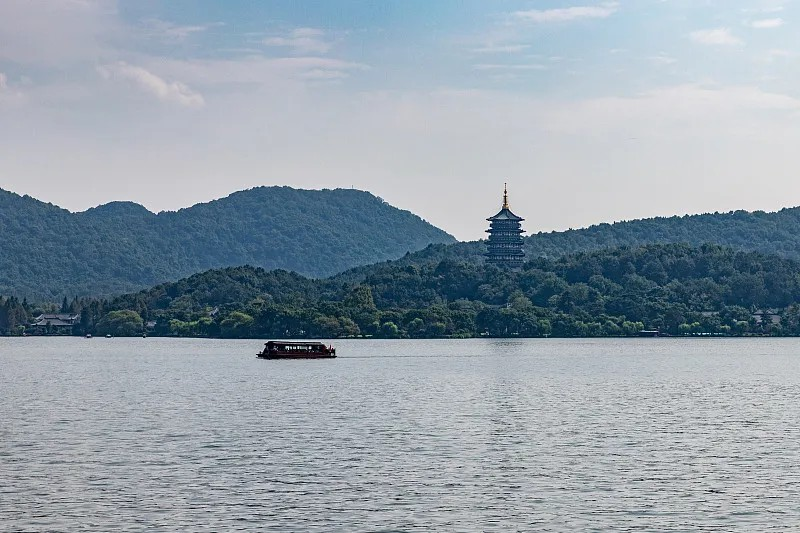Leifeng: (484, 182, 526, 271)
